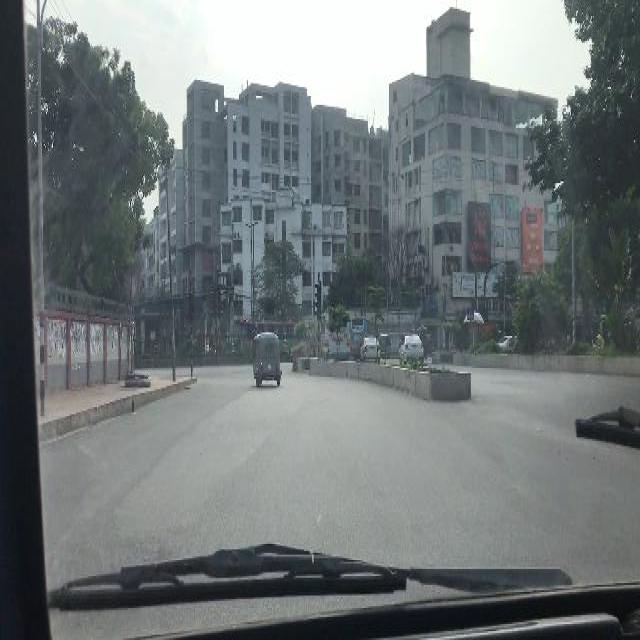bus: (237, 318, 309, 358), (321, 312, 349, 356), (352, 316, 376, 352)
car: (396, 335, 424, 362), (359, 335, 378, 358), (498, 332, 516, 347)
motorbike: (279, 348, 293, 360)
three wheelers -CNG-: (252, 332, 280, 386), (379, 335, 389, 355)
